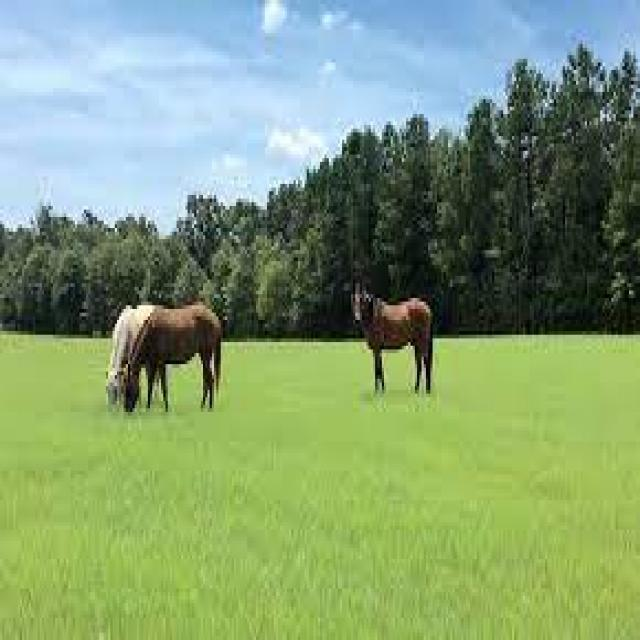horse: (123, 298, 225, 436), (346, 274, 444, 408), (102, 292, 130, 442)
